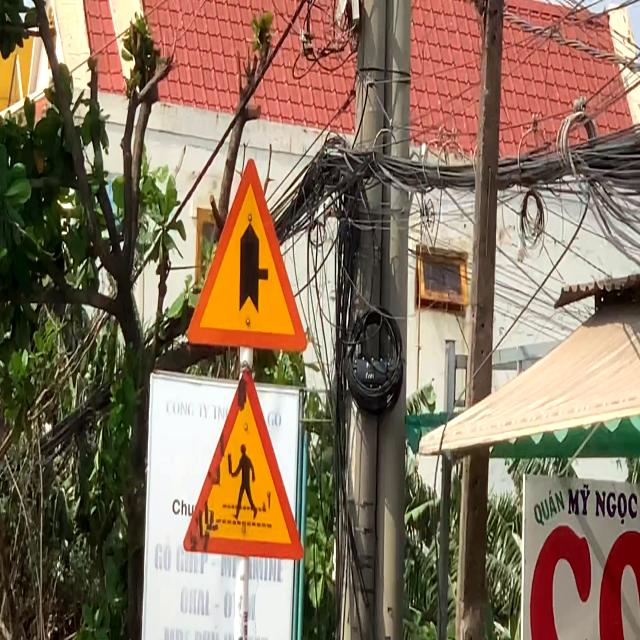W.207b: (185, 155, 309, 356)
W.224: (181, 366, 305, 562)
